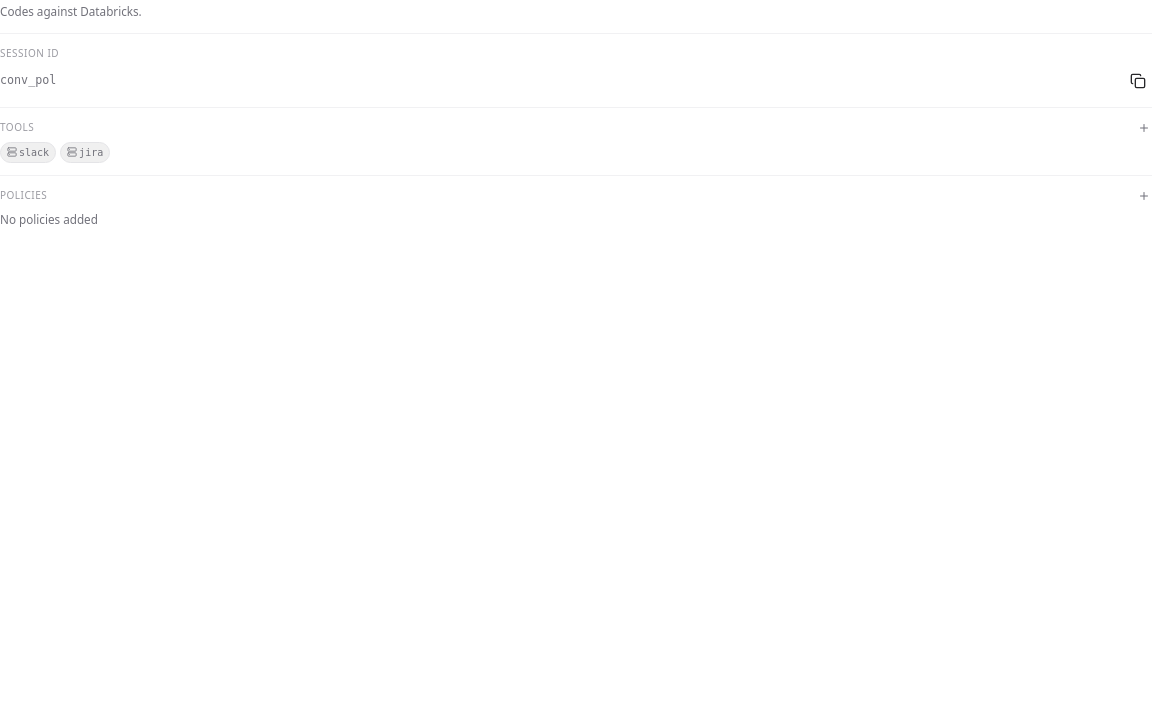
Scenario: SessionPoliciesSection › Cancel from the policy list closes the dialog
The width and height of the screenshot is (1152, 720).
Click the button titled "Add policy": [1144, 196] box 1136,188 -> 1151,204
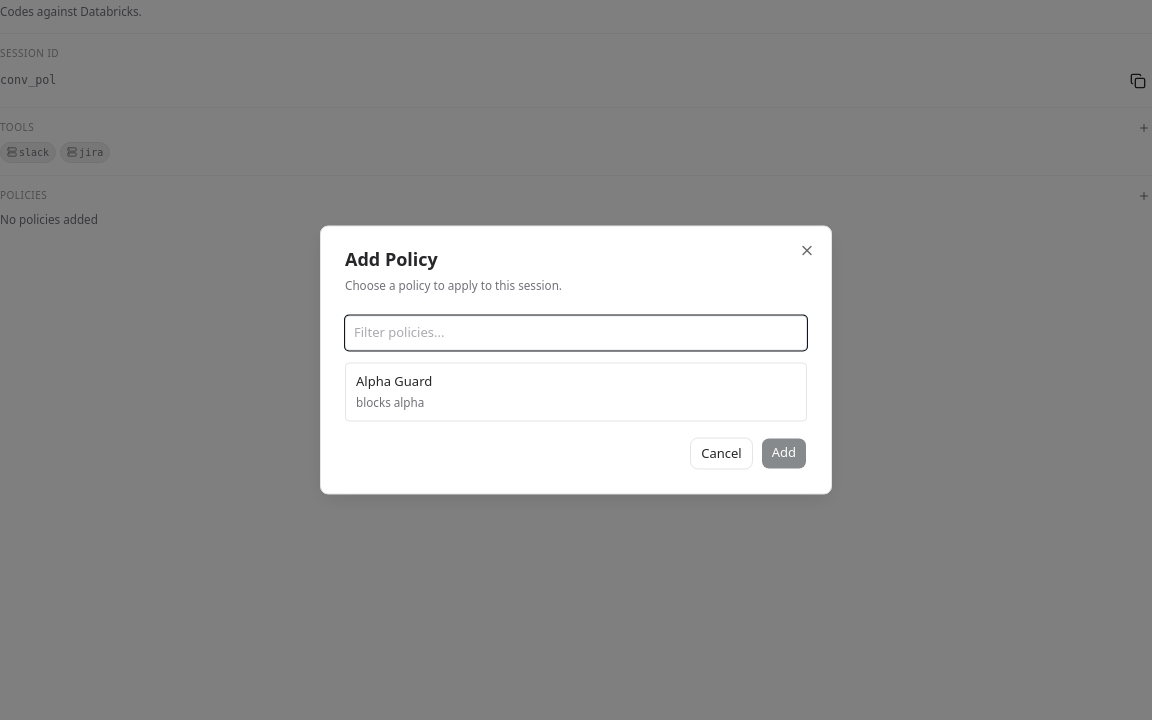
Click the button "Cancel": [721, 454] box 690,438 -> 753,470
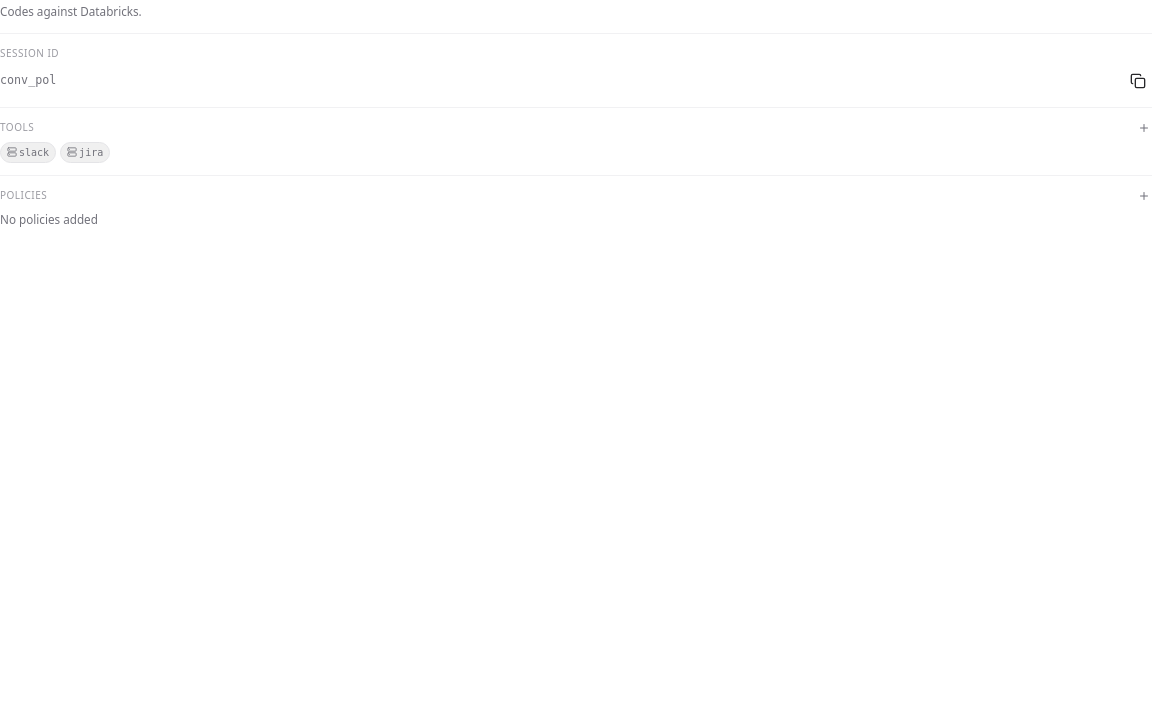
Now the dialog is gone
